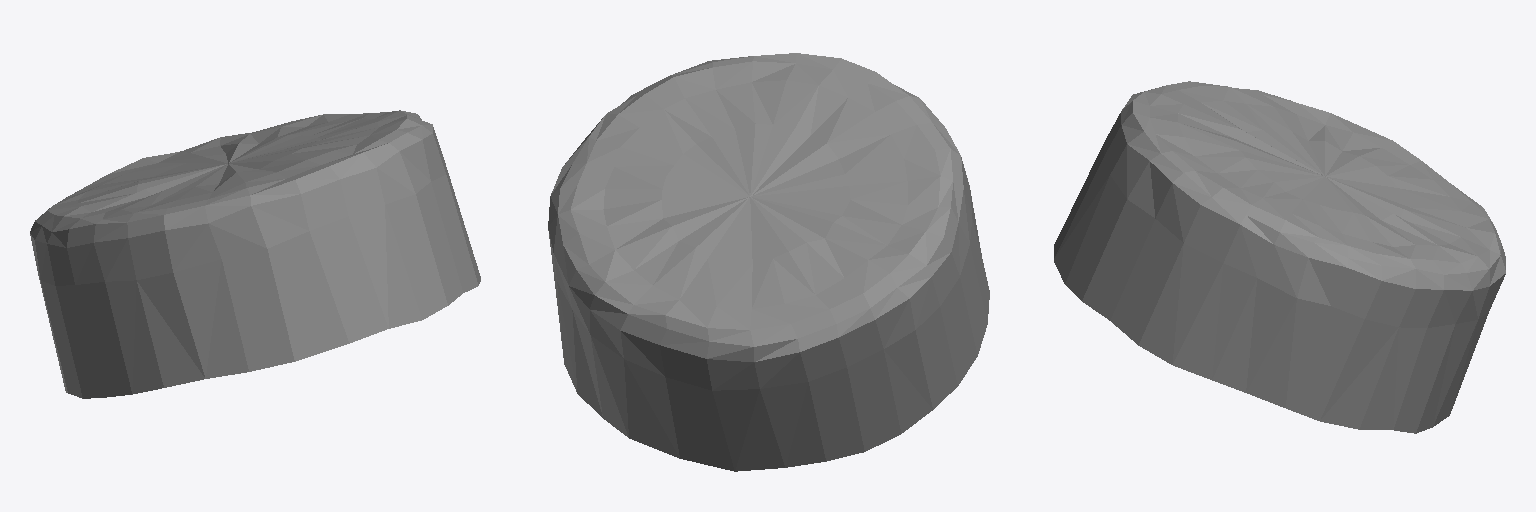
File: right_app_button.obj
The picture shows the model from 3 angles: view 1: azimuth 30°, elevation 25°; view 2: azimuth 150°, elevation 25°; view 3: azimuth 270°, elevation 25°; orthographic projection.
Parts seen in each view (by area): view 1: right_app_button; view 2: right_app_button; view 3: right_app_button.
Part boxes in pixels (left/top/right/bottom): right_app_button: left=30, top=110, right=480, bottom=398; right_app_button: left=548, top=53, right=989, bottom=471; right_app_button: left=1054, top=81, right=1505, bottom=433.
Bounding box in the file's own units: 0.0076 × 0.0056 × 0.008.